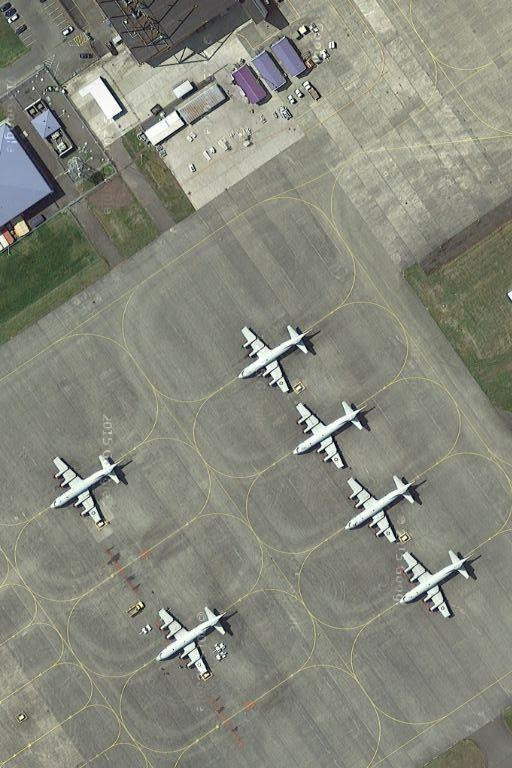P-3C: (234, 316, 317, 398), (44, 448, 125, 528), (290, 394, 371, 471), (150, 603, 230, 678), (339, 471, 417, 547), (396, 546, 473, 621)
